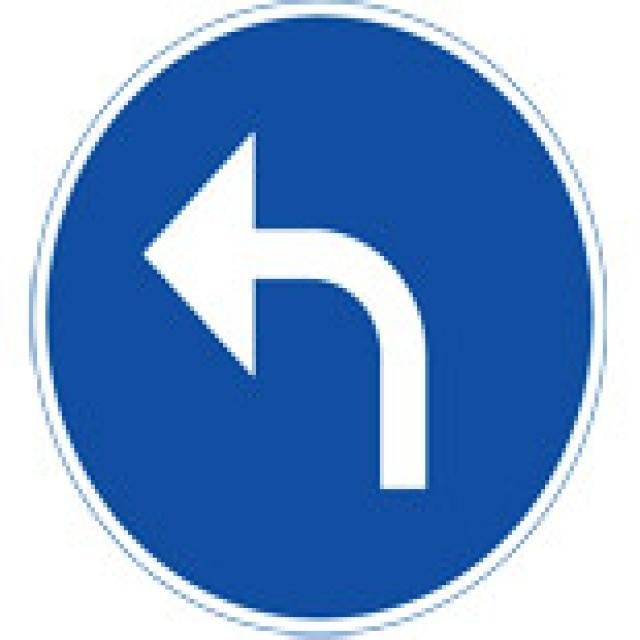Turn left: (24, 0, 612, 640)
